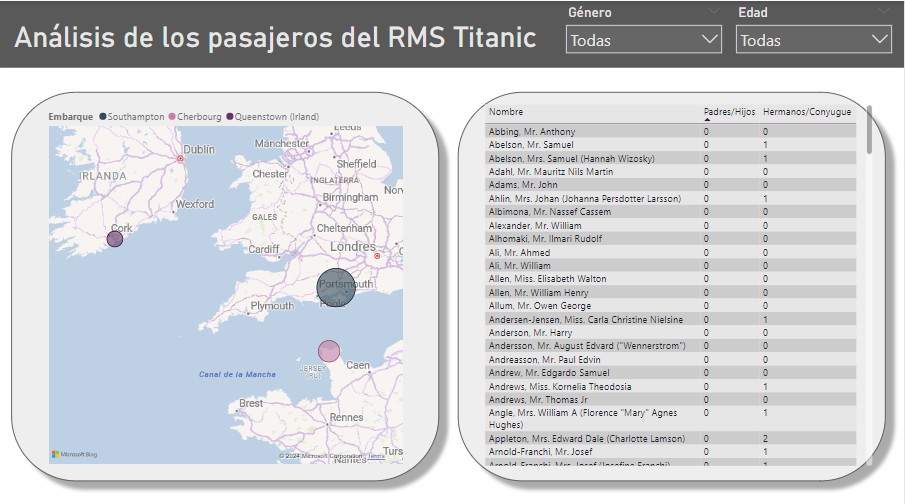

What the dashboard file says about the page in this screenshot:
{"tool":"powerbi","page":{"name":"Mapas","canvas":[1280,720],"ordinal":1},"visuals":[{"type":"map","fields":{"Series":["titanic_dataset_1.Embarque"],"Category":["titanic_dataset_1.Embarque"],"Size":["titanic_dataset_1.PassengerId"]},"box":[63.8,143.1,511.7,518.7],"z":0},{"type":"tableEx","fields":{"Values":["titanic_dataset_2.Nombre","titanic_dataset_1.Padres/Hijos","titanic_dataset_1.Hermanos/Conyugue"]},"box":[681.7,141.7,559.8,521.6],"z":1000},{"type":"card","fields":{"Values":["titanic_dataset_1.Título"]},"box":[0,0,779.5,93.5],"z":2000},{"type":"slicer","fields":{"Values":["titanic_dataset_1.Género"]},"box":[792.3,0,240.9,93.5],"z":3000},{"type":"slicer","fields":{"Values":["titanic_dataset_1.Bin_Edad"]},"box":[1033.2,0,240.9,93.5],"z":4000}]}

Visuals, with their boxes in screenshot pixels (x1, y1, x2, y2), scaled from the page's 1280x720 canvas onto the 905x504 screenshot:
map - titanic_dataset_1.Embarque x titanic_dataset_1.Embarque: 45:100:407:463
tableEx - titanic_dataset_2.Nombre x titanic_dataset_1.Padres/Hijos: 482:99:878:464
card - titanic_dataset_1.Título: 0:0:551:65
slicer - titanic_dataset_1.Género: 560:0:731:65
slicer - titanic_dataset_1.Bin_Edad: 731:0:901:65
